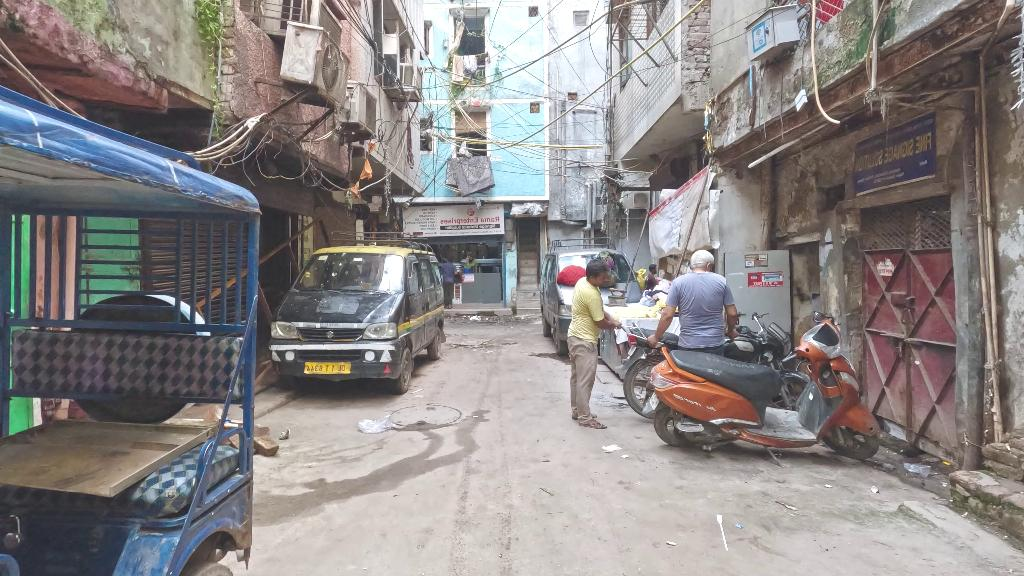garbage: (351, 412, 395, 440)
